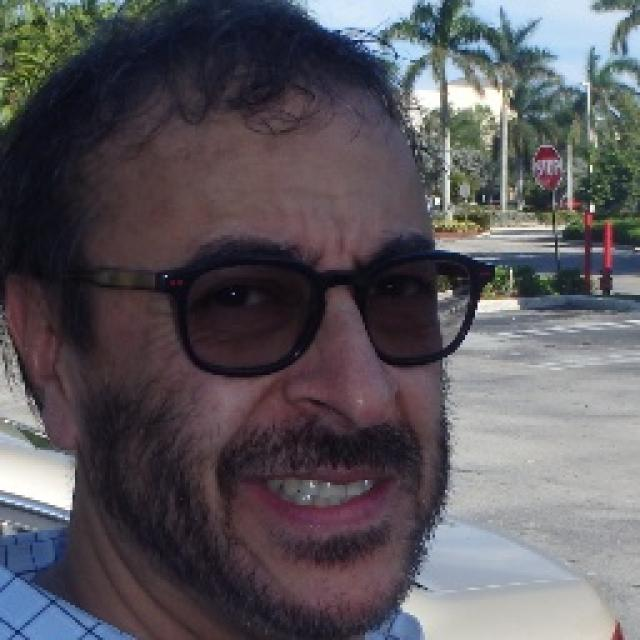earlobe: (1, 268, 82, 452)
